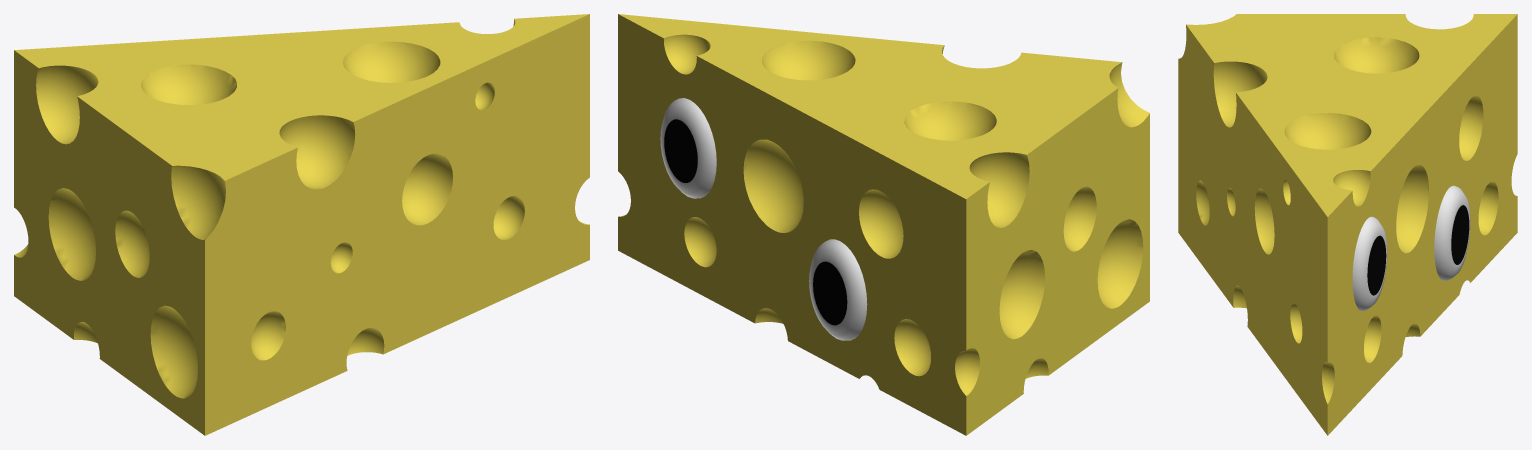
File: mainser.fbx
3 views of the same model, side by side, from view 1: azimuth 30°, elevation 25°; view 2: azimuth 150°, elevation 25°; view 3: azimuth 270°, elevation 25° (orthographic). The views are drawn at different scales.
Visible parts, largest first — view 1: Plane.008; view 2: Plane.008, Cylinder.003, Cylinder.002; view 3: Plane.008, Cylinder.003, Cylinder.002.
Boxes of the visible parts, <box> form: Plane.008: <box>14,14,589,435</box>; Plane.008: <box>618,14,1149,435</box>; Cylinder.003: <box>809,239,867,340</box>; Cylinder.002: <box>660,98,716,198</box>; Plane.008: <box>1178,14,1517,435</box>; Cylinder.003: <box>1434,185,1470,280</box>; Cylinder.002: <box>1352,216,1387,310</box>.
Bounding box in the file's own units: 399 × 200 × 281.
